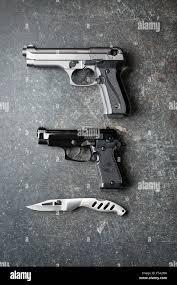Knife: (23, 195, 127, 218)
Pistol: (20, 42, 133, 119), (35, 126, 127, 188)
